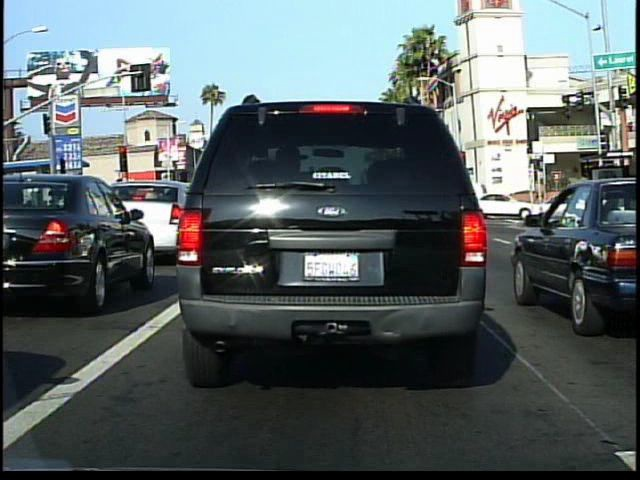person: (583, 172, 608, 229)
